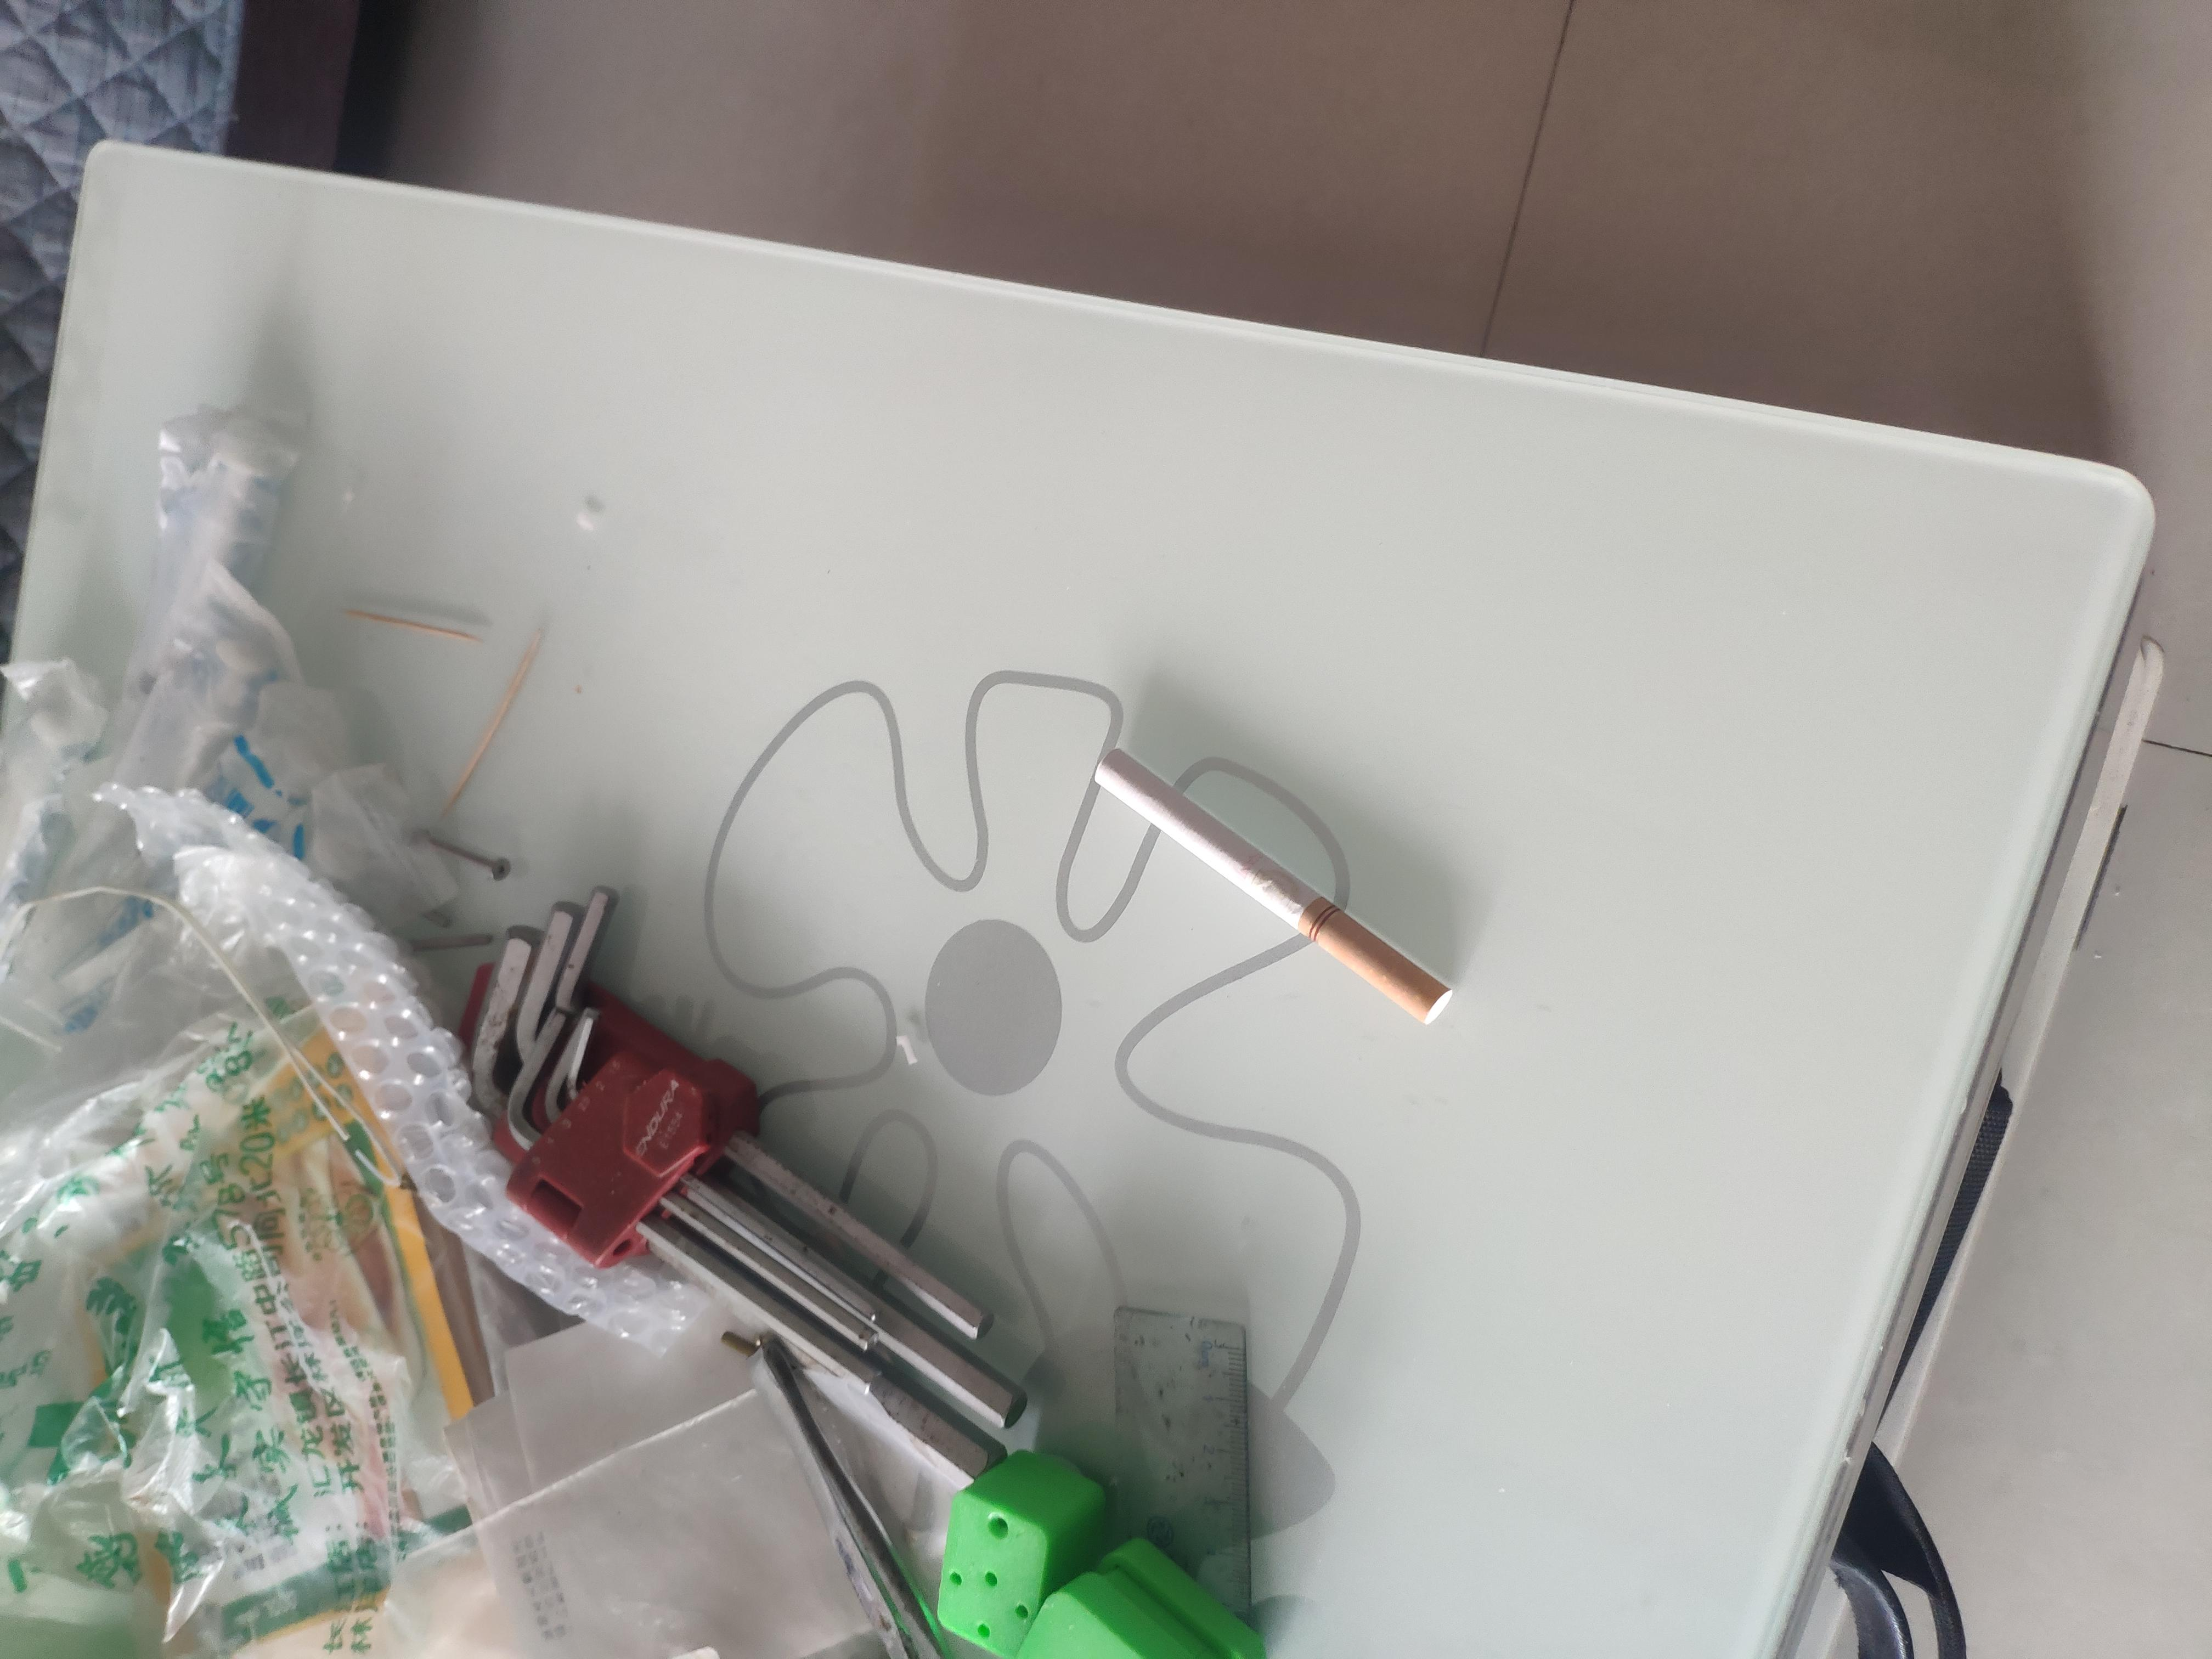smoke: (846, 821, 1216, 1091)
